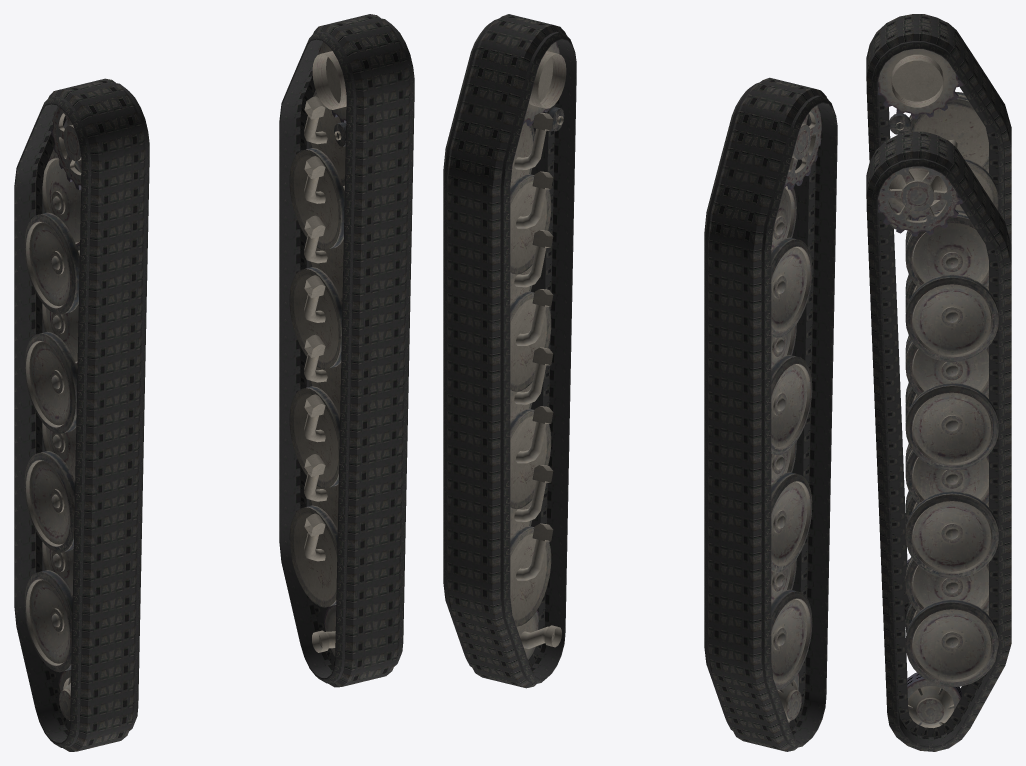
File: Chassis.glb
The picture shows the model from 3 angles, left to right: view 1: azimuth 30°, elevation 25°; view 2: azimuth 150°, elevation 25°; view 3: azimuth 270°, elevation 25°; orthographic projection. The views are drawn at different scales.
Parts seen in each view (by area): view 1: set_1_group_0, set_0_group_0, set_3_group_0, set_2_group_0; view 2: set_1_group_0, set_0_group_0, set_3_group_0, set_2_group_0; view 3: set_3_group_0, set_0_group_0, set_1_group_0, set_2_group_0.
Part boxes in pixels (x1,y1,x2,y2): set_1_group_0: [14, 78, 149, 751]; set_0_group_0: [279, 14, 414, 687]; set_3_group_0: [289, 42, 346, 656]; set_2_group_0: [24, 106, 81, 720]; set_1_group_0: [704, 77, 837, 751]; set_0_group_0: [443, 14, 576, 688]; set_3_group_0: [510, 42, 566, 659]; set_2_group_0: [771, 105, 821, 722]; set_3_group_0: [878, 166, 998, 728]; set_0_group_0: [866, 131, 1011, 751]; set_1_group_0: [866, 14, 1011, 626]; set_2_group_0: [878, 49, 998, 564].
Size of the model in its own units: 3.27 by 6.21 by 1.36.
Materials: 4 (4 with a texture image).
